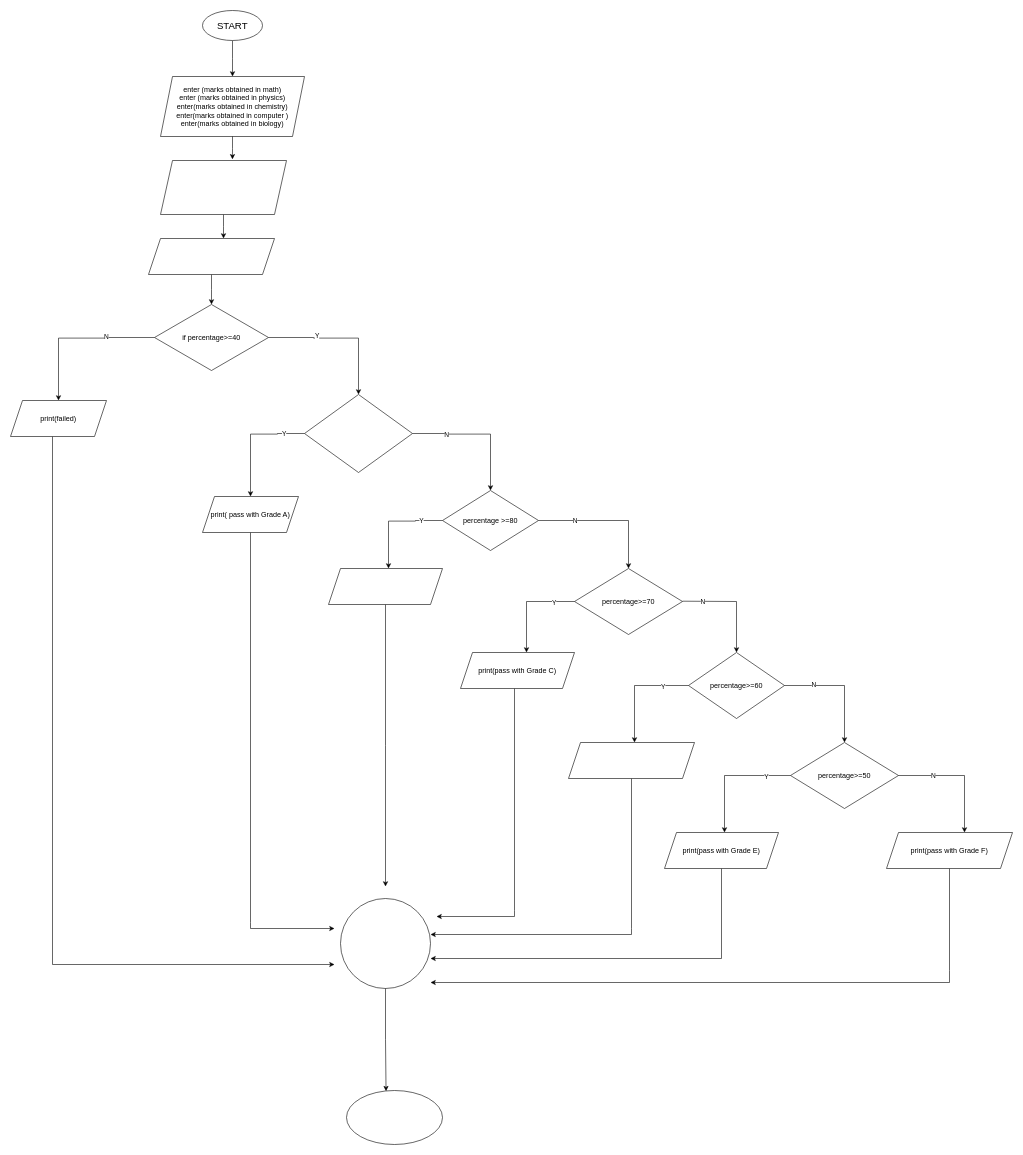
Some shapes in this 1023 by 1155 pixel diagram are drawn without their labels. Here are the shapes that lost their labels. From the top down, the centre of each, then its label:
At (223,187): "total marks=maths+physics+ chemistry+computer+ biology".
At (211,256): "percentage= (total marks/500)*100".
At (358,433): "if percentage>=90".
At (385,586): "print(pass with Grade B)".
At (631,760): "print(pass with Grade D)".
At (394,1117): "STOP".
